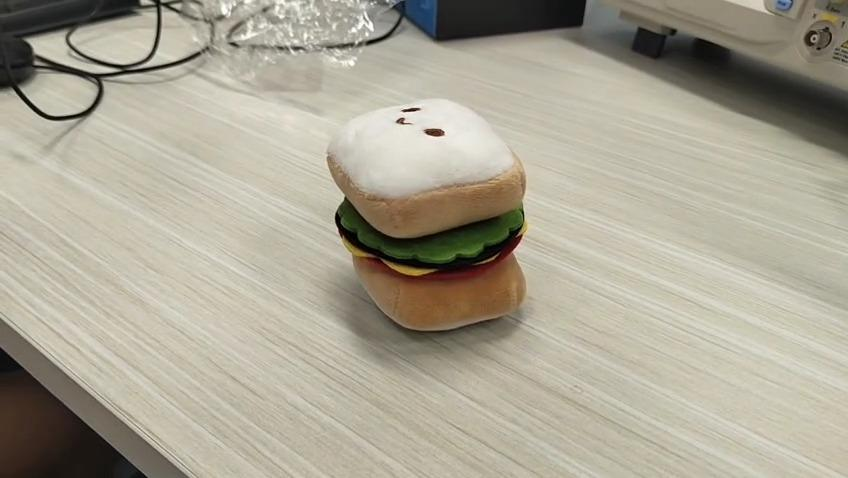objects: (325, 95, 528, 330)
